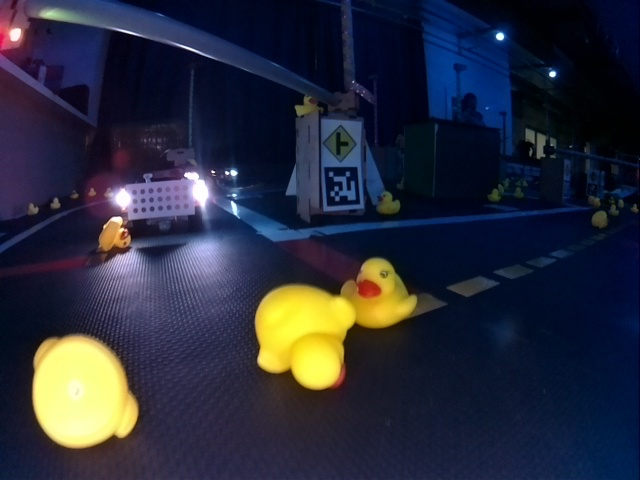Duckie: (33, 336, 136, 446), (255, 286, 350, 385), (343, 260, 416, 327), (101, 220, 130, 250), (294, 95, 319, 117), (376, 190, 400, 212)
Duckiebot: (106, 171, 210, 231)
Intersection sign: (322, 123, 357, 161)
QR code: (323, 166, 363, 207)
Traffic light: (1, 6, 31, 52)
